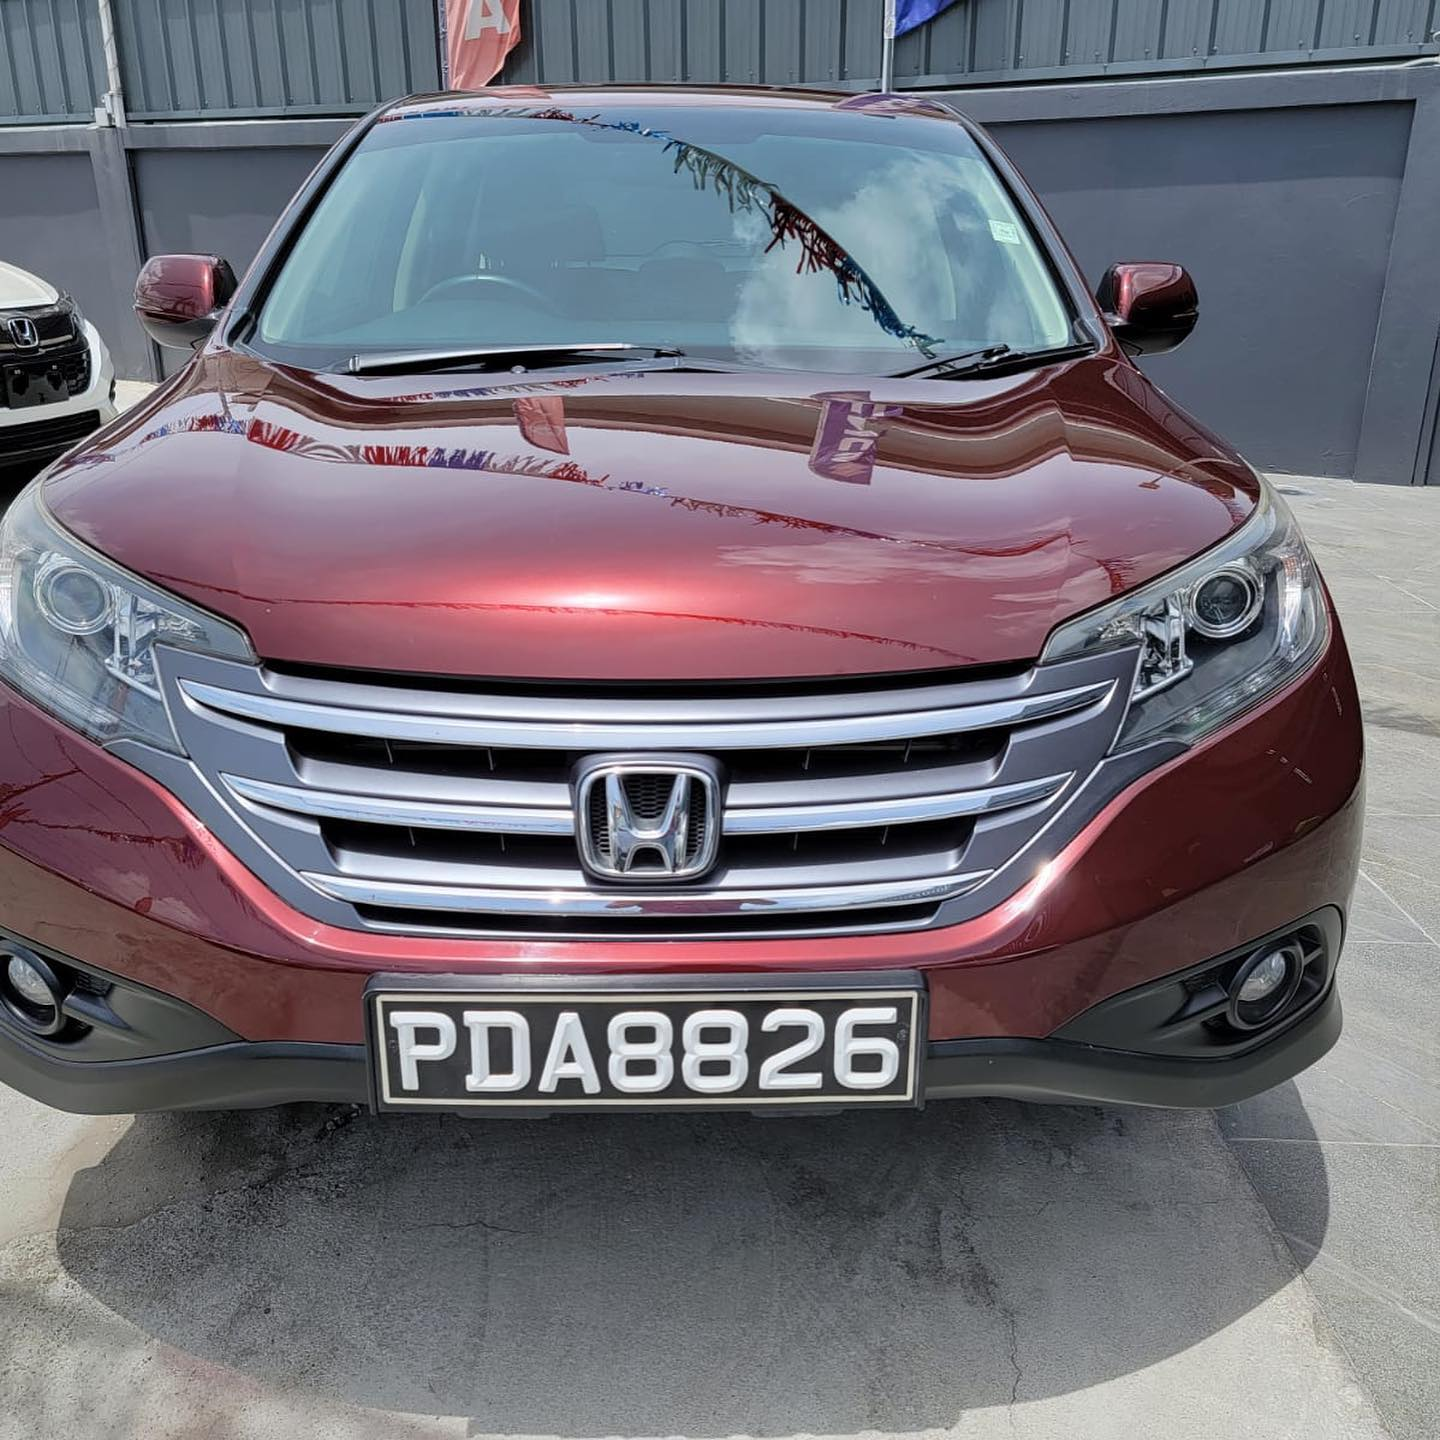License-Plate: (387, 1006, 906, 1098)
